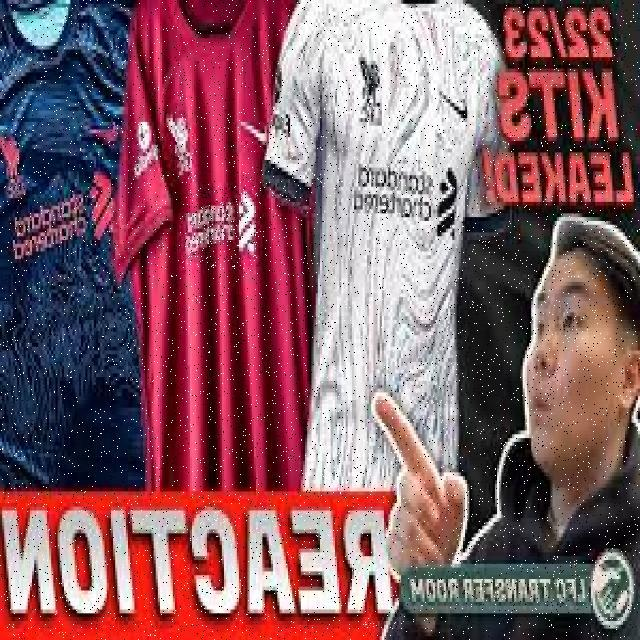Nike: (438, 86, 468, 122), (84, 123, 117, 146)
Standard Chartered: (12, 167, 121, 265), (354, 156, 458, 253), (185, 187, 257, 267)
